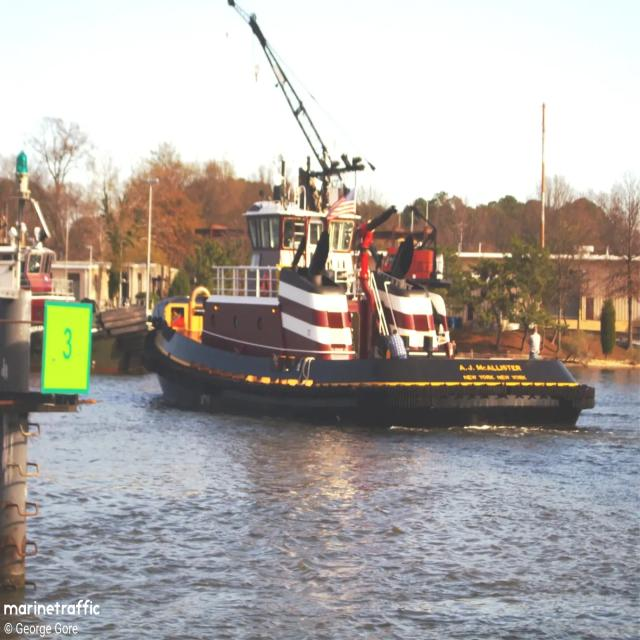Tug: (144, 140, 594, 427)
